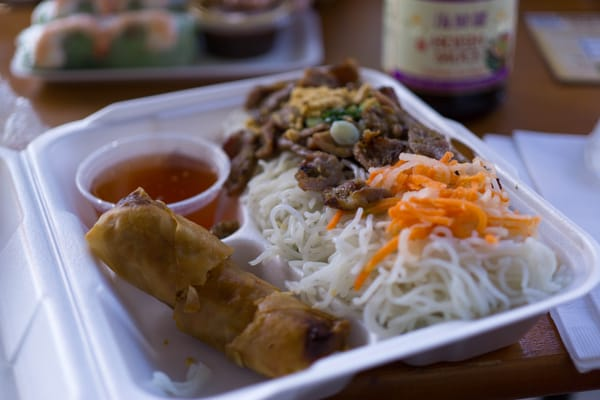pizza: (380, 1, 519, 116)
sushi: (74, 131, 231, 229)
